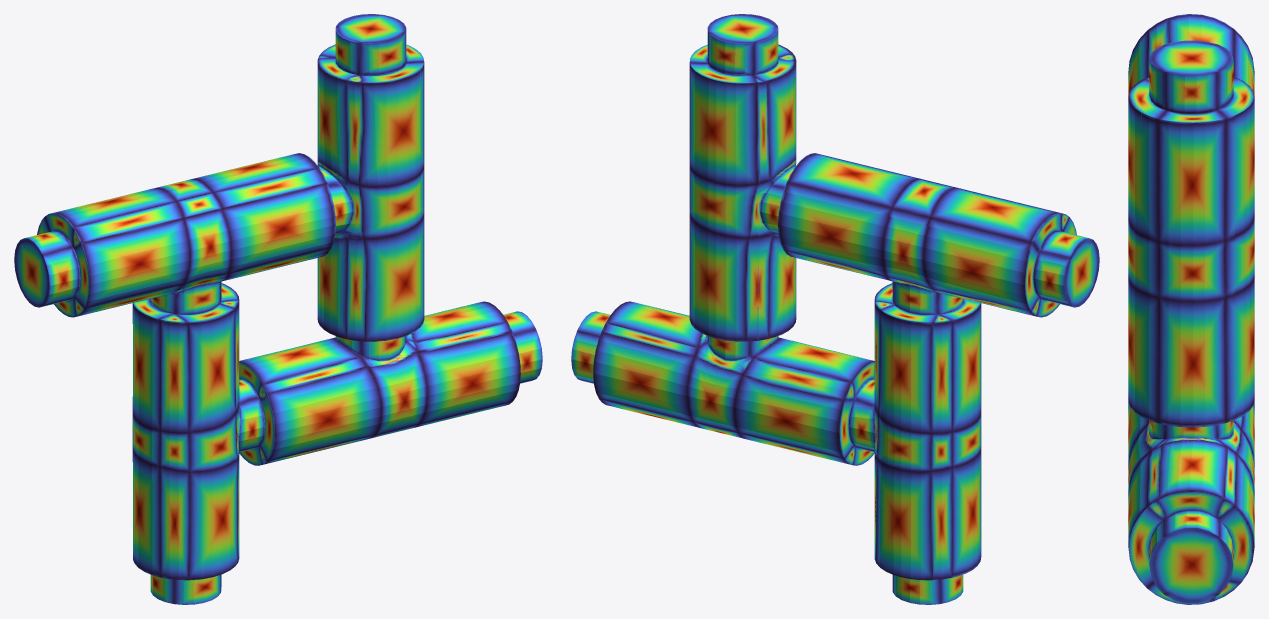
File: gen2.glb
3 views of the same model, side by side, from view 1: azimuth 30°, elevation 25°; view 2: azimuth 150°, elevation 25°; view 3: azimuth 270°, elevation 25° (orthographic). The views are drawn at different scales.
Parts seen in each view (by area): view 1: Node; view 2: Node; view 3: Node.
Part boxes in pixels (x1,y1,x2,y2): Node: (14, 14, 542, 604); Node: (571, 14, 1099, 604); Node: (1128, 14, 1254, 604).
Size of the model in its own units: 320 by 320 by 60.
Materials: 1 (1 with a texture image).
